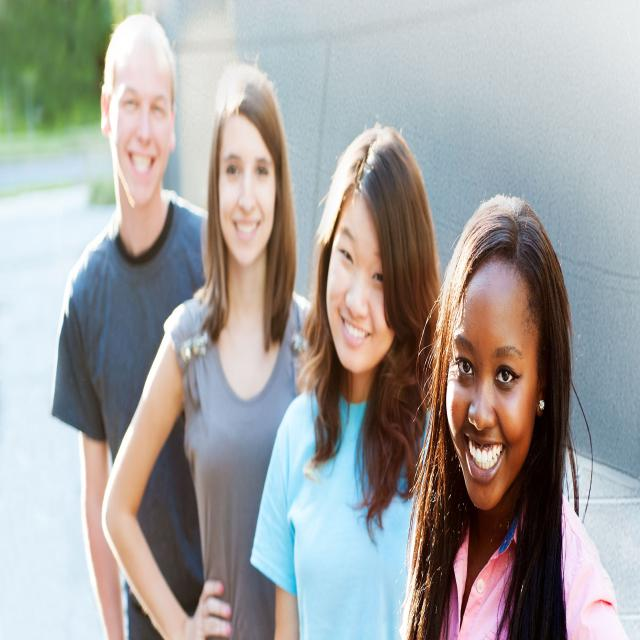body: (97, 59, 318, 640), (395, 180, 629, 640), (52, 7, 210, 640), (249, 126, 443, 639)
